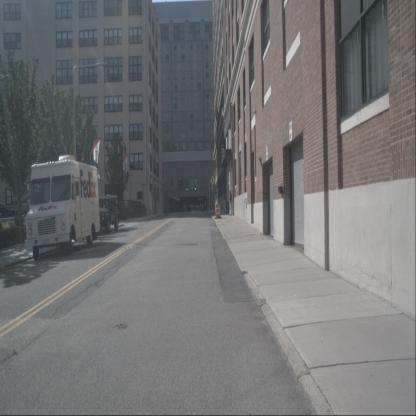human-pedestrian-adult: (228, 190, 232, 216)
movable_object-trafficcone: (214, 203, 222, 219)
vehicle-car: (92, 194, 119, 234)
vehicle-truck: (23, 154, 100, 260)
